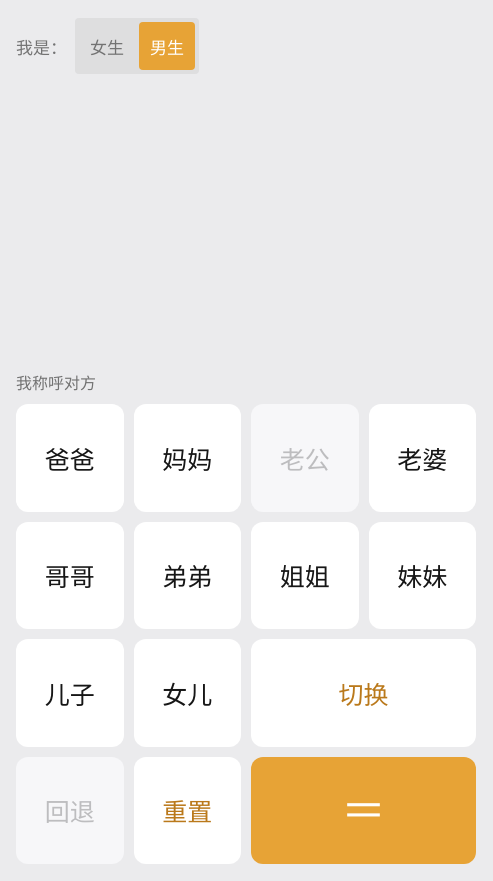
亲戚计算器 › 性别按钮联动原生禁用态，输入不改变顶部规则
expect the button "老公" is disabled: met, box [251, 404, 358, 512]
expect the button "老婆" is enabled: met, box [368, 404, 476, 512]
Click the button "妈妈": [187, 458] box [134, 404, 241, 512]
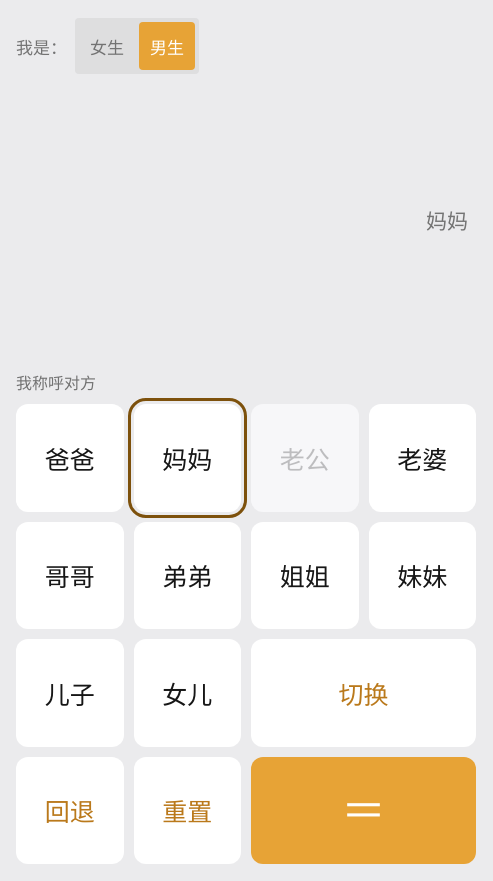
expect the button "老公" is disabled: met, box [251, 404, 358, 512]
Click the button "女生": [107, 46] box [79, 22, 135, 70]
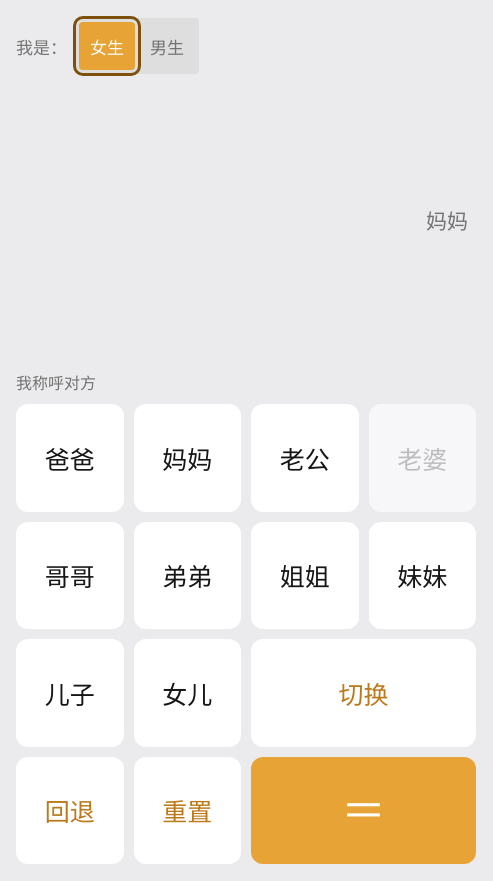
expect the text named "关系链" reads "妈妈": met, box [426, 209, 468, 234]
expect the button "老婆" is disabled: met, box [368, 404, 476, 512]
expect the button "老公" is enabled: met, box [251, 404, 358, 512]
